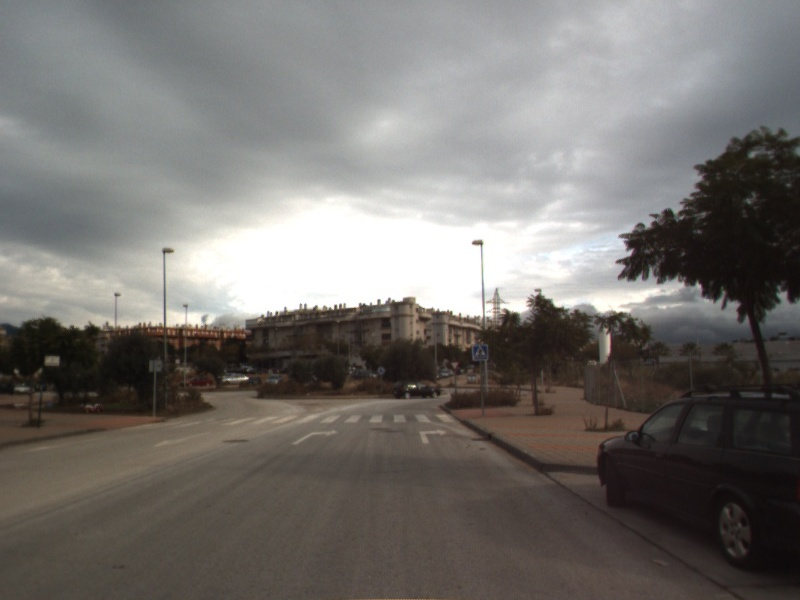RIGHT: (290, 426, 340, 446), (417, 426, 449, 446)
